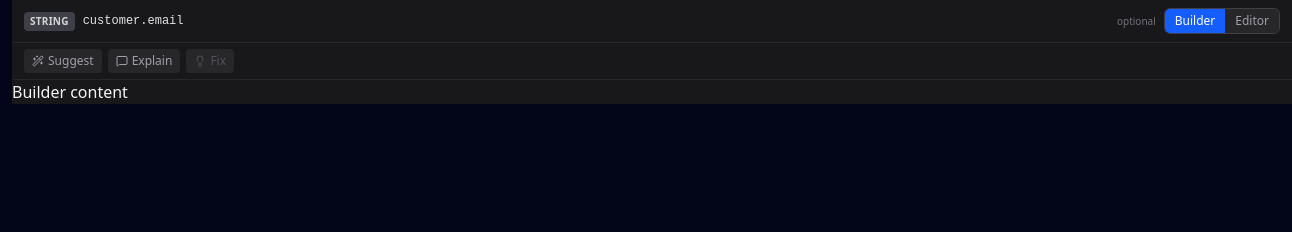
Scenario: ChainBuilderShell — Explain Rule (FS-041) › dismiss closes the panel
Step 1. Click the button with test id "chain-shell-ai-explain" → (144,61), box [108,49,180,73]
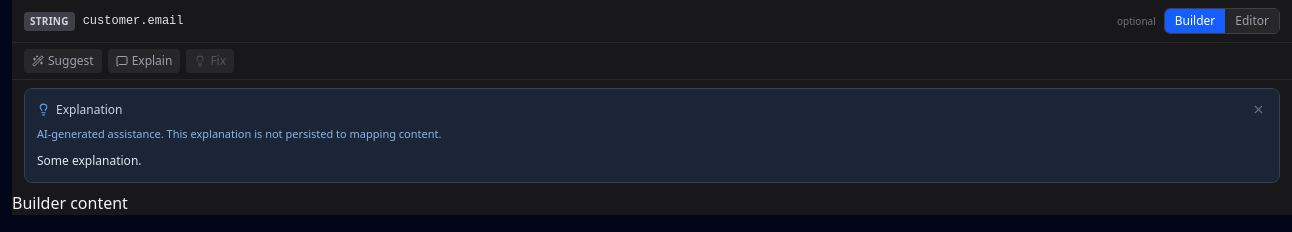
Result: the message with test id "explanation-panel" is shown at [24,88,1280,183]
Step 2. Click the button named "Dismiss explanation" → (1258,110), box [1250,101,1267,118]
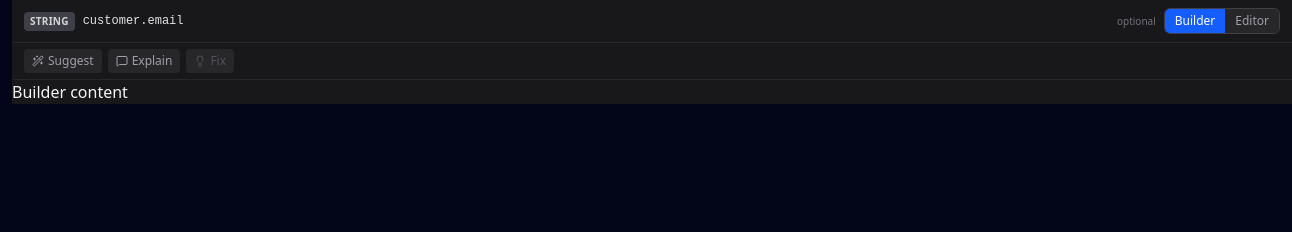
Result: the message with test id "explanation-panel" is gone
